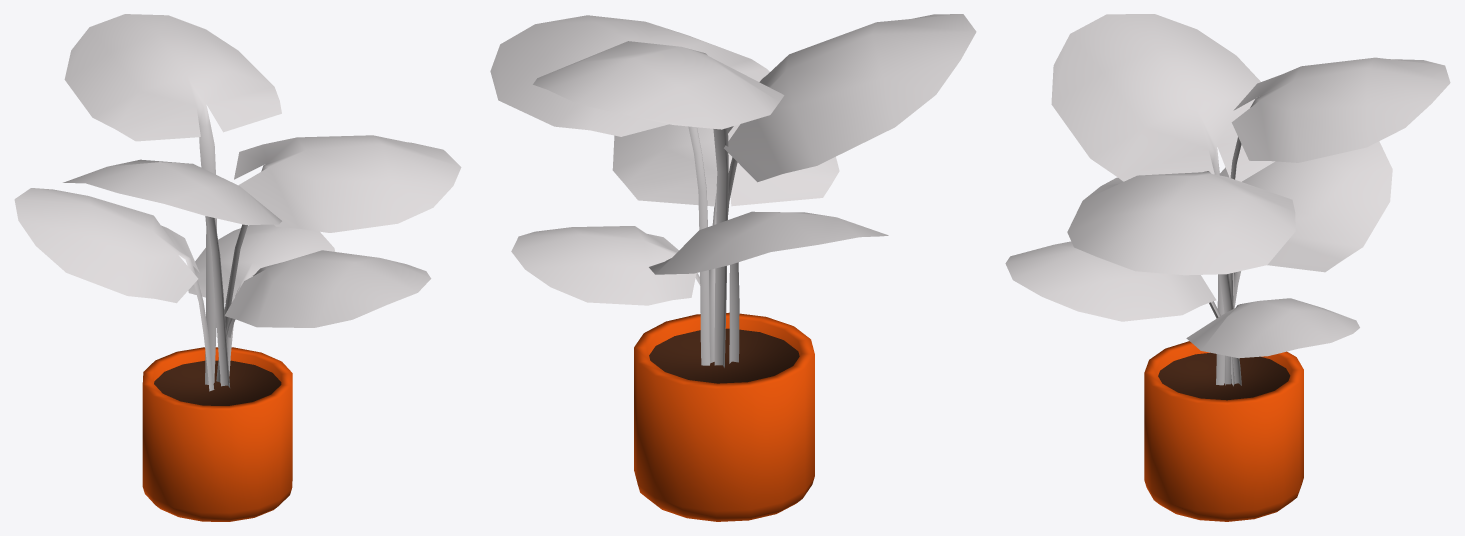
Rendered from PlantB.fbx.
3 views of the same model, side by side, from view 1: azimuth 30°, elevation 25°; view 2: azimuth 150°, elevation 25°; view 3: azimuth 270°, elevation 25° (orthographic). The views are drawn at different scales.
Parts seen in each view (by area): view 1: Large Plant; view 2: Large Plant; view 3: Large Plant.
Part boxes in pixels (box(x1,y1,x2,y2)): Large Plant: box(14, 14, 461, 521); Large Plant: box(490, 14, 976, 521); Large Plant: box(1005, 14, 1450, 521).
Bounding box in the file's own units: 73.92 × 77.76 × 72.98.
